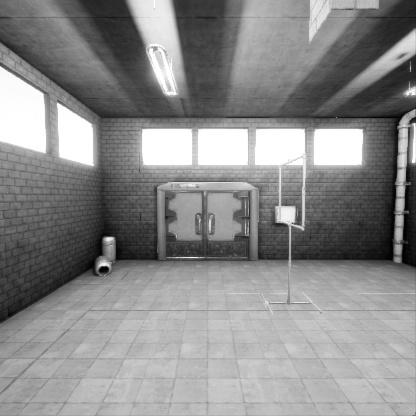gate: (278, 189, 306, 265)
